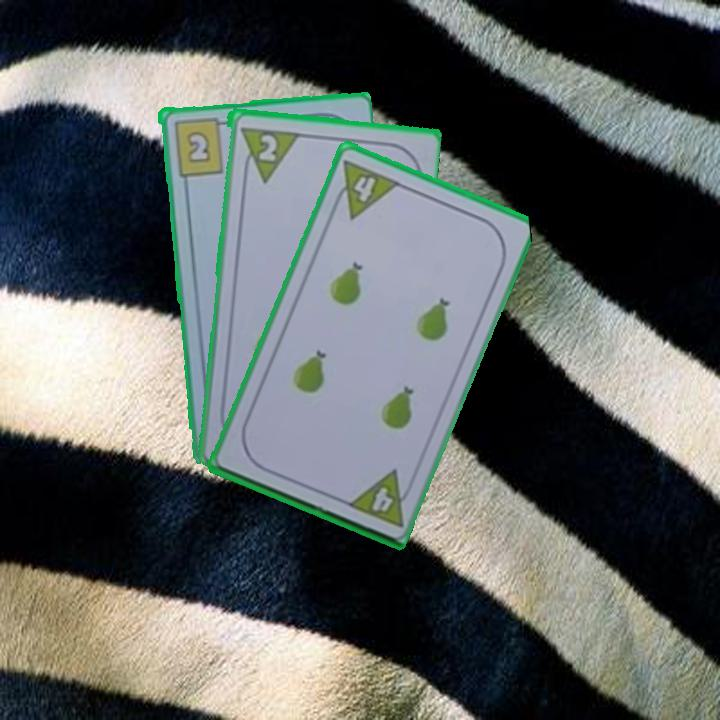2b: (170, 113, 231, 178)
2p: (236, 123, 299, 185)
4p: (327, 156, 402, 222), (342, 466, 418, 529)
